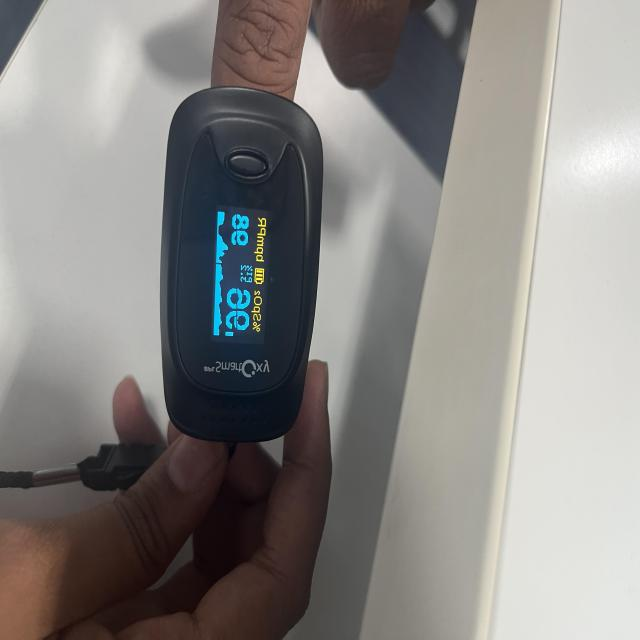spo2: (159, 88, 325, 448)
